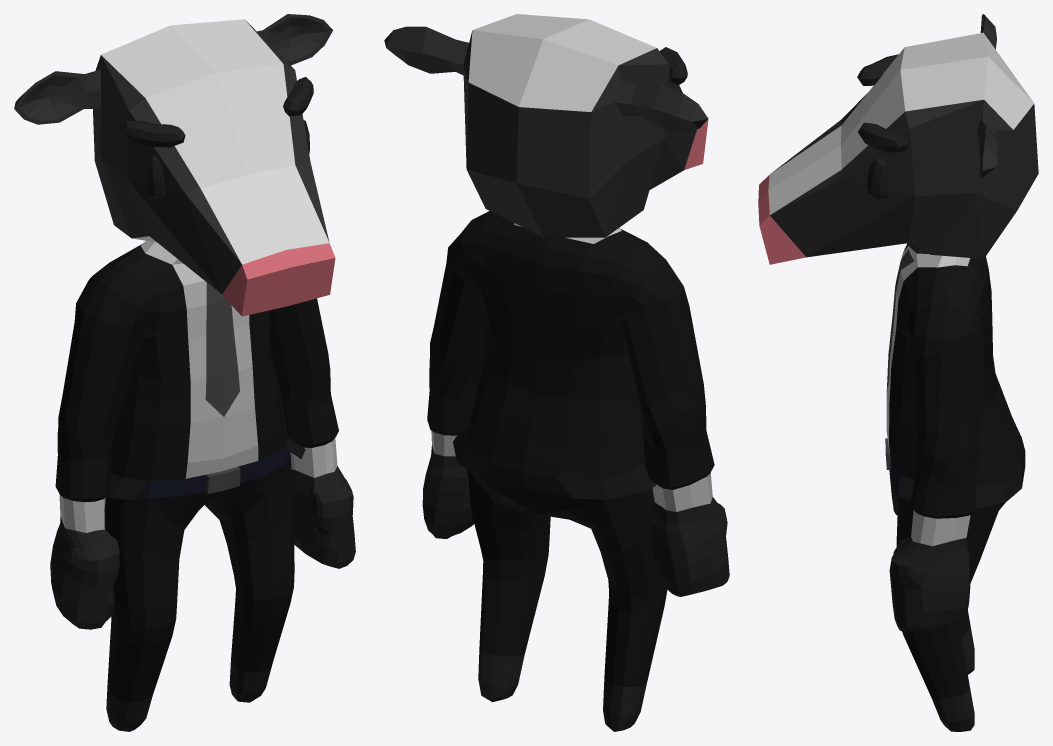
Rendered from cow-0c277edf40.glb.
3 views of the same model, side by side, from view 1: azimuth 30°, elevation 25°; view 2: azimuth 150°, elevation 25°; view 3: azimuth 270°, elevation 25° (orthographic). The views are drawn at different scales.
Visible parts, largest first — view 1: Cow.obj; view 2: Cow.obj; view 3: Cow.obj.
Boxes of the visible parts, x1,y1,x2,y2 form: Cow.obj: (14, 14, 355, 731); Cow.obj: (384, 14, 729, 731); Cow.obj: (758, 14, 1038, 731).
Bounding box in the file's own units: 1.41 × 2.86 × 1.13.
